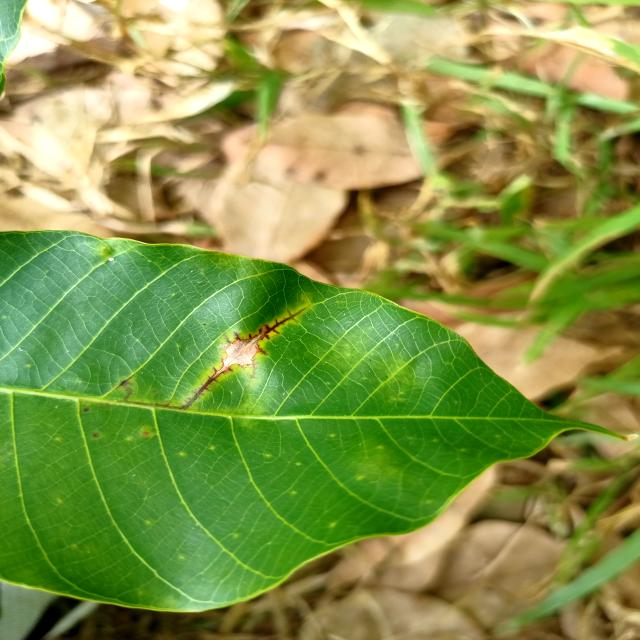Corynespora: (181, 306, 306, 409)
